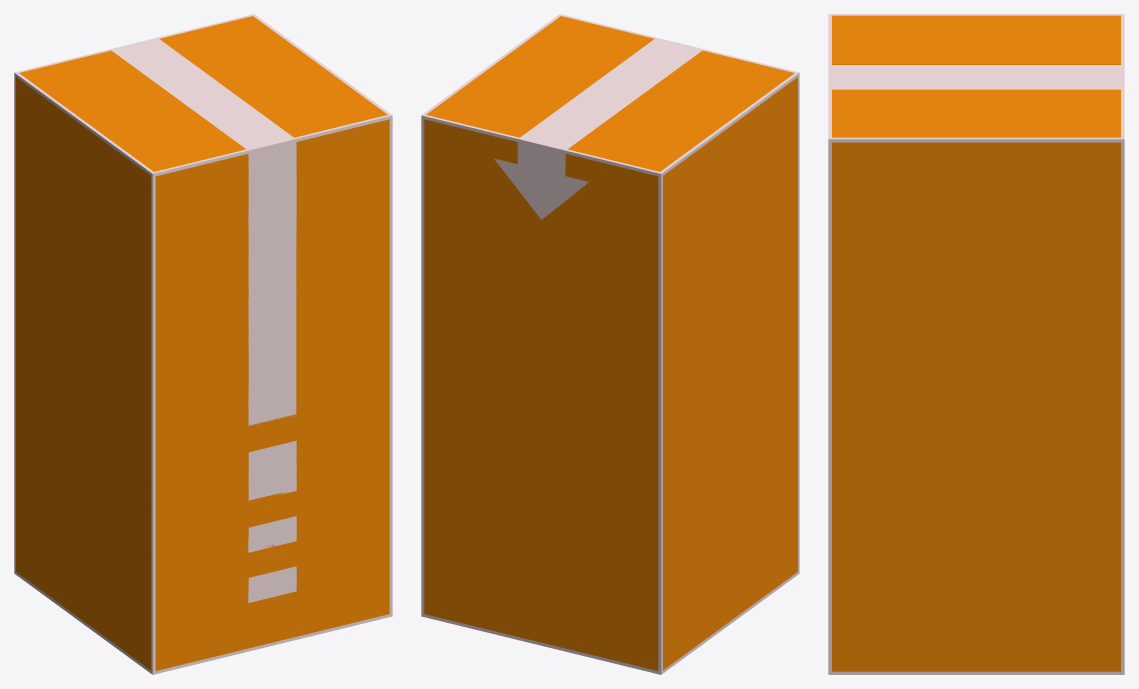
The model's file is Airbender.fbx.
3 renders of one model, left to right at view 1: azimuth 30°, elevation 25°; view 2: azimuth 150°, elevation 25°; view 3: azimuth 270°, elevation 25°, orthographic. The views are drawn at different scales.
Parts seen in each view (by area): view 1: 2.BODY.001; view 2: 2.BODY.001; view 3: 2.BODY.001.
Part boxes in pixels (x1,y1,x2,y2): 2.BODY.001: (14, 14, 392, 674); 2.BODY.001: (421, 14, 799, 674); 2.BODY.001: (828, 14, 1124, 674).
Bounding box in the file's own units: 100 × 201 × 101.
